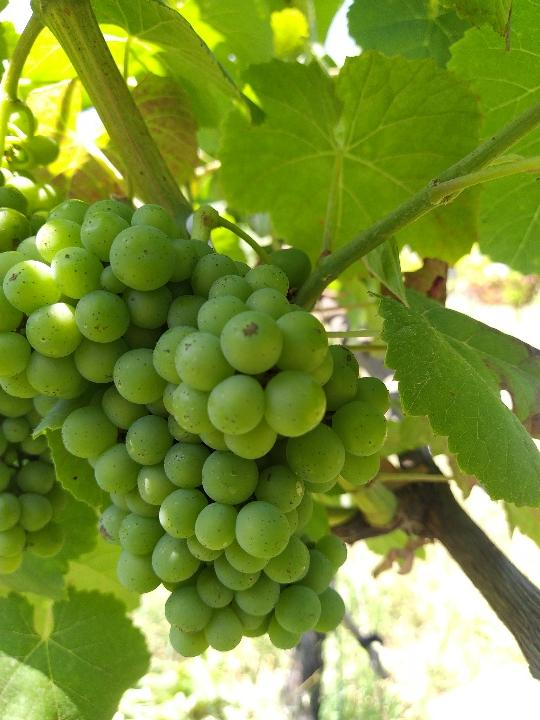grape: (3, 196, 394, 659)
